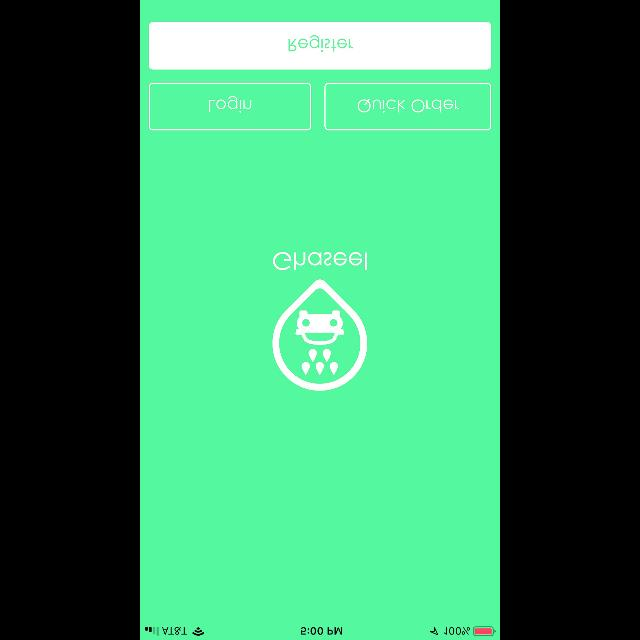image: (272, 279, 368, 391)
text: (273, 252, 367, 270)
textbutton: (149, 22, 491, 70), (324, 83, 492, 131), (148, 83, 312, 131)
uppertaskbar: (140, 626, 500, 640)
